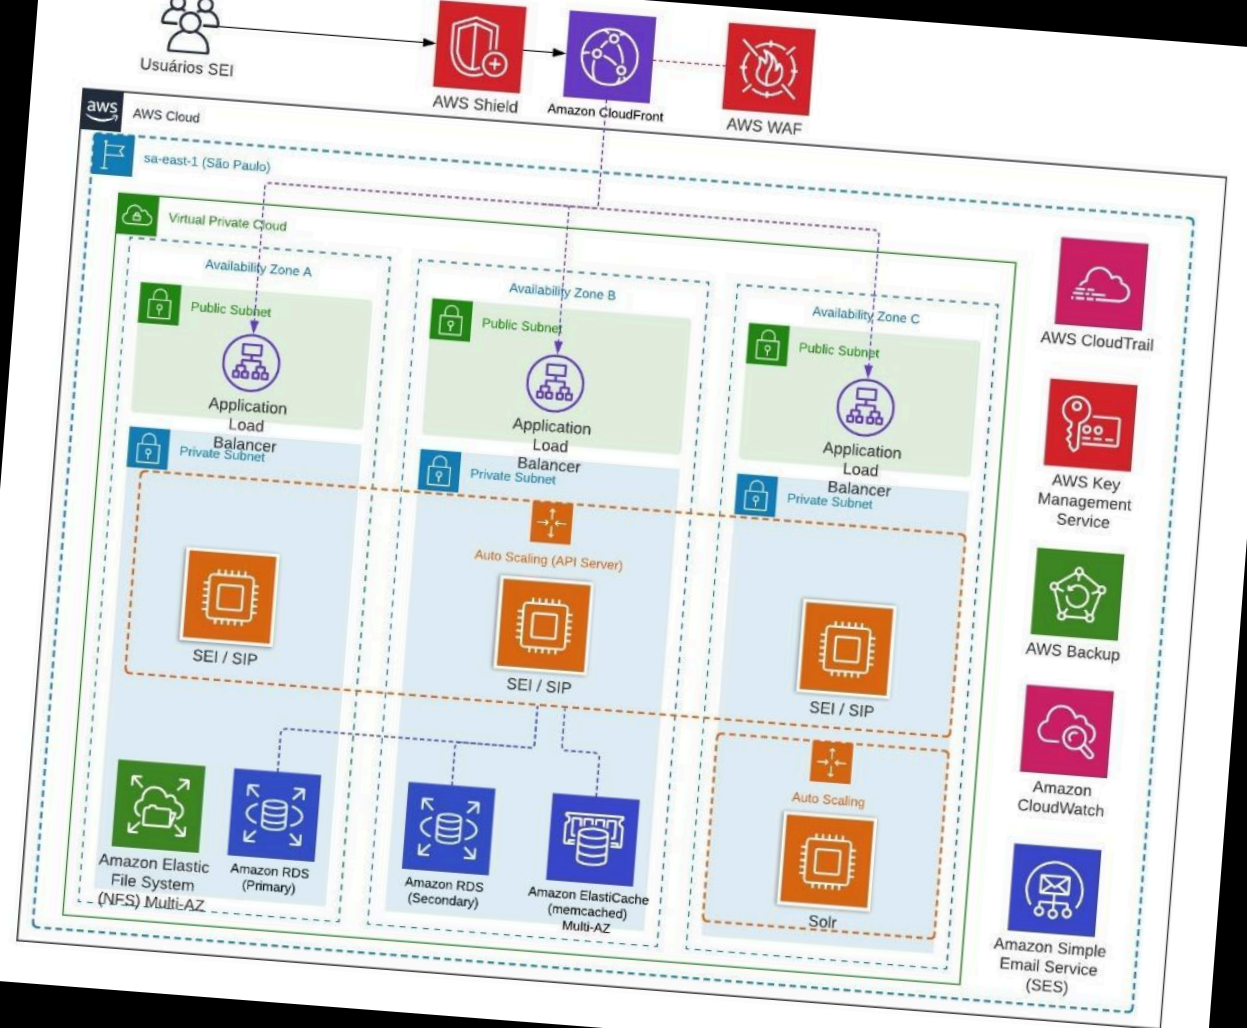aws_application_load_balancer: (518, 349, 588, 414), (829, 373, 899, 438), (215, 329, 284, 394)
aws_autoscaling: (529, 499, 571, 544), (810, 739, 852, 782)
aws_backup: (1031, 546, 1122, 639)
aws_cloud: (76, 86, 123, 127)
aws_cloud_trail: (1055, 235, 1145, 328)
aws_cloudfront: (560, 8, 655, 102)
aws_cloudwatch: (1020, 686, 1110, 777)
aws_elactic_file_system(nfs)_multi-az: (112, 758, 204, 853)
aws_elasticache: (543, 795, 638, 887)
aws_key_management_service: (1041, 377, 1137, 473)
aws_private_subnet: (733, 472, 776, 519), (418, 447, 461, 491), (126, 425, 169, 468)
aws_public_subnet: (430, 0, 526, 94), (135, 280, 181, 325), (427, 296, 472, 342), (746, 322, 787, 364)
aws_rds: (229, 768, 320, 858), (403, 782, 494, 871)
aws_region: (88, 130, 135, 175)
aws_simple_email_service: (1006, 843, 1101, 938)
aws_virtual_private_cloud: (115, 192, 160, 237)
aws_waf: (715, 17, 817, 118)
sei/sip: (492, 572, 590, 672), (180, 546, 277, 645), (795, 597, 893, 695)
solr: (779, 811, 872, 903)
user: (149, 0, 228, 56)
